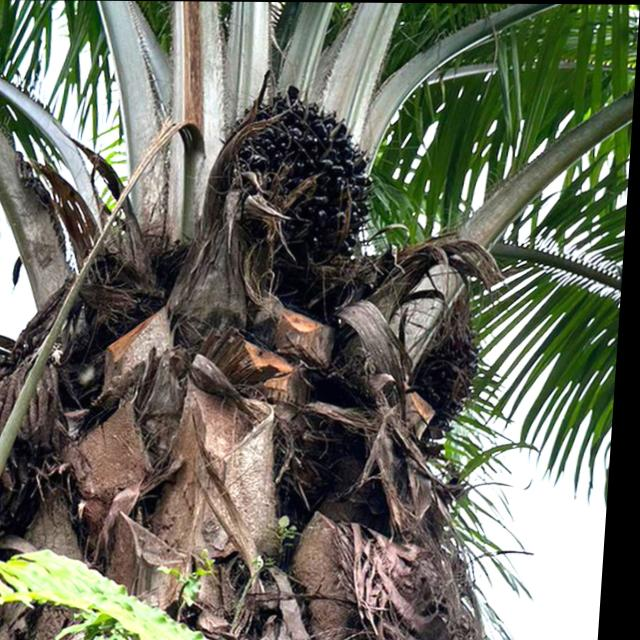unripe: (214, 92, 383, 268), (358, 296, 492, 445)
